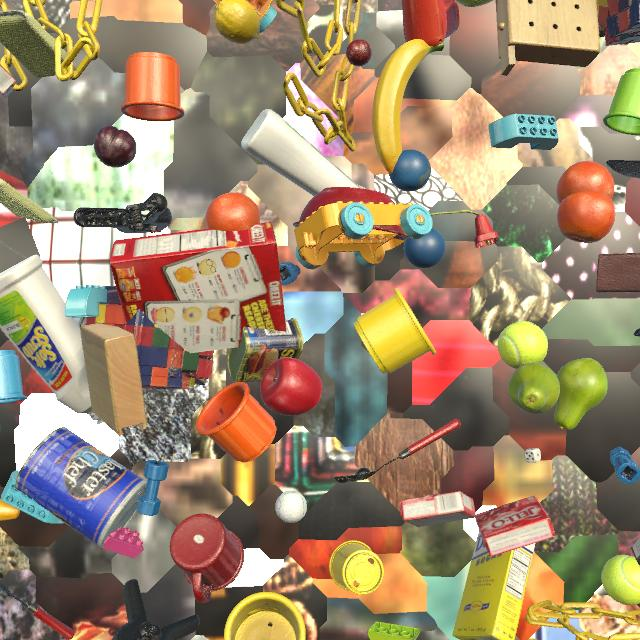ycb_002_master_chef_can: (15, 427, 147, 549)
ycb_003_cracker_box: (110, 221, 286, 353)
ycb_004_sugar_box: (452, 531, 535, 640)
ycb_008_pudding_box: (631, 537, 640, 566)
ycb_009_gelatin_box: (475, 496, 556, 556), (399, 491, 476, 527), (0, 64, 16, 98)
ycb_010_potted_meat_can: (227, 318, 303, 383)
ycb_011_banana: (372, 39, 444, 175), (0, 499, 20, 521)
ycb_013_apple: (260, 357, 322, 416)
ycb_014_lemon: (214, 0, 260, 44)
ycb_016_pear: (554, 358, 608, 430), (508, 363, 560, 414)
ycb_017_orange: (557, 191, 615, 243), (556, 161, 615, 204), (206, 192, 260, 231)
ycb_018_plum: (94, 126, 137, 168)
